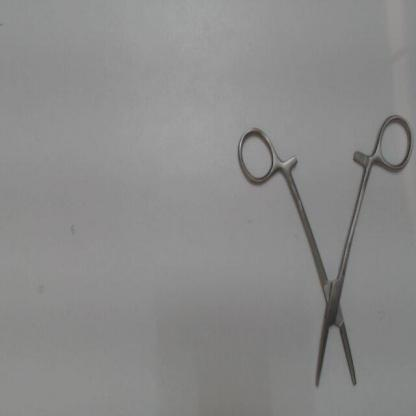Mayo Needle Holder: (233, 112, 415, 401)
